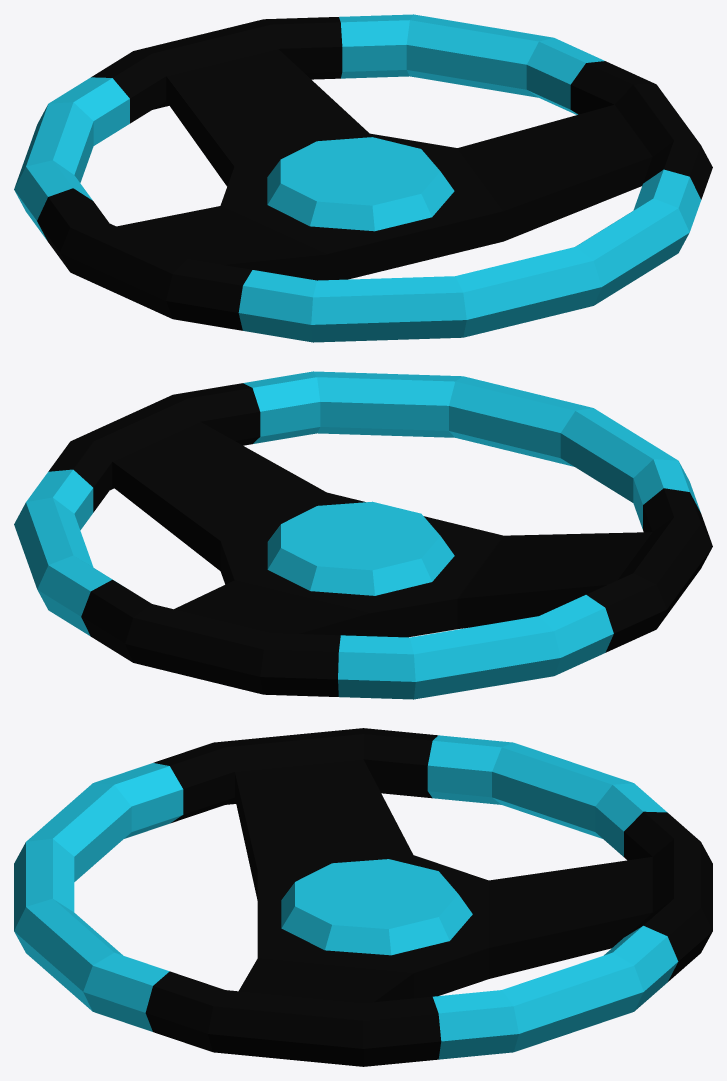
The model's file is dreksyonUnty 1.fbx.
3 views of the same model, one above another, from view 1: azimuth 30°, elevation 25°; view 2: azimuth 150°, elevation 25°; view 3: azimuth 270°, elevation 25° (orthographic). The views are drawn at different scales.
Parts seen in each view (by area): view 1: Torus; view 2: Torus; view 3: Torus.
Part boxes in pixels (x1=…): Torus: x1=14, y1=14, x2=712, y2=342; Torus: x1=14, y1=371, x2=712, y2=699; Torus: x1=14, y1=728, x2=712, y2=1066.
Size of the model in its own units: 220 by 25.96 by 214.
